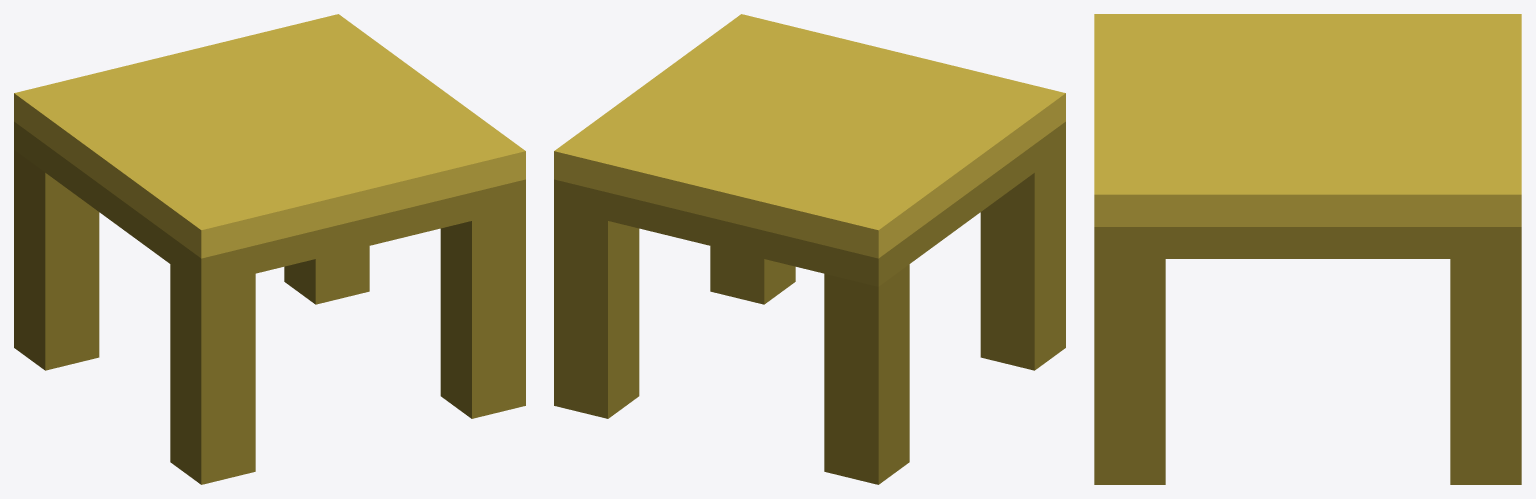
Rendered from mesa_hidromiel_desgastada_01.glb.
3 views of the same model, side by side, from view 1: azimuth 30°, elevation 25°; view 2: azimuth 150°, elevation 25°; view 3: azimuth 270°, elevation 25° (orthographic). The views are drawn at different scales.
Parts seen in each view (by area): view 1: mesa_hidromiel_desgastada; view 2: mesa_hidromiel_desgastada; view 3: mesa_hidromiel_desgastada.
Part boxes in pixels (bbox=[...]): mesa_hidromiel_desgastada: bbox=[14, 14, 525, 484]; mesa_hidromiel_desgastada: bbox=[554, 14, 1065, 484]; mesa_hidromiel_desgastada: bbox=[1094, 14, 1521, 484].
Bounding box in the file's own units: 1 × 0.75 × 1.
